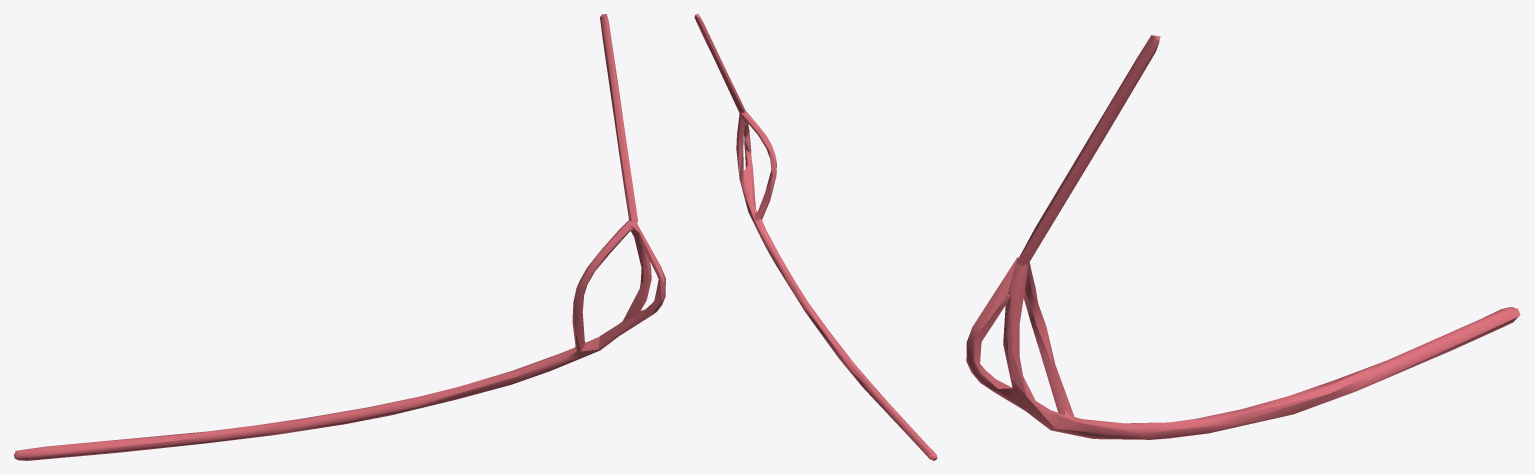
The model's file is fma50798_cx103.glb.
3 renders of one model, left to right at view 1: azimuth 30°, elevation 25°; view 2: azimuth 150°, elevation 25°; view 3: azimuth 270°, elevation 25°, orthographic. The views are drawn at different scales.
Parts seen in each view (by area): view 1: FMA50798_CX103; view 2: FMA50798_CX103; view 3: FMA50798_CX103.
Part boxes in pixels (<box>): FMA50798_CX103: <box>14,14,665,460</box>; FMA50798_CX103: <box>694,14,937,460</box>; FMA50798_CX103: <box>966,35,1520,439</box>.
Size of the model in its own units: 0.0161 by 0.014 by 0.0116.
